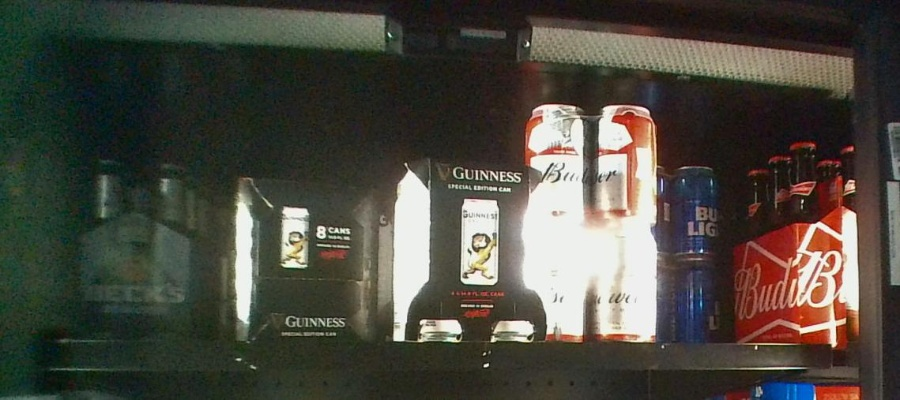bottle: (531, 106, 656, 346), (394, 156, 537, 345), (71, 159, 215, 340), (229, 175, 380, 345), (656, 170, 721, 342)
